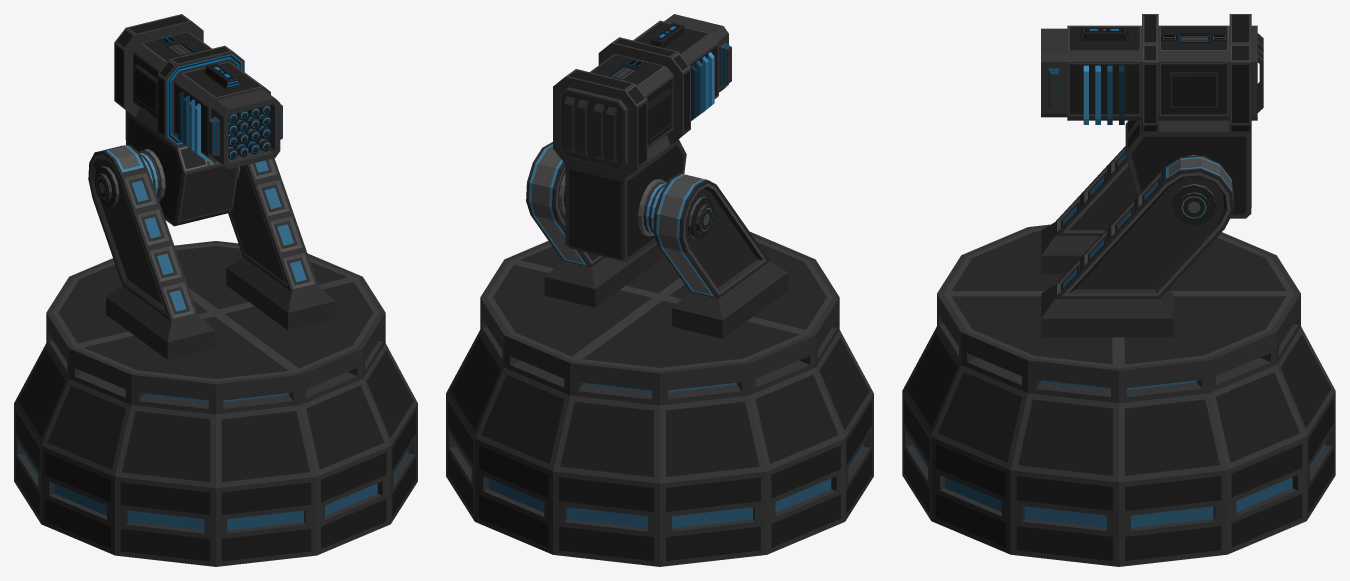
The picture shows the model from 3 angles, left to right: view 1: azimuth 30°, elevation 25°; view 2: azimuth 150°, elevation 25°; view 3: azimuth 270°, elevation 25°; orthographic projection. The views are drawn at different scales.
Visible parts, largest first — view 1: PTR003, NTR003, TR004; view 2: PTR003, TR004, NTR003; view 3: PTR003, TR004, NTR003.
Boxes of the visible parts, <box> form: PTR003: <box>14,241,417,566</box>; NTR003: <box>88,145,335,359</box>; TR004: <box>114,14,282,226</box>; PTR003: <box>446,232,873,566</box>; TR004: <box>553,14,731,261</box>; NTR003: <box>526,142,787,338</box>; PTR003: <box>902,224,1335,566</box>; TR004: <box>1041,14,1263,218</box>; NTR003: <box>1041,146,1233,337</box>.
Size of the model in its own units: 782 by 888 by 782.
